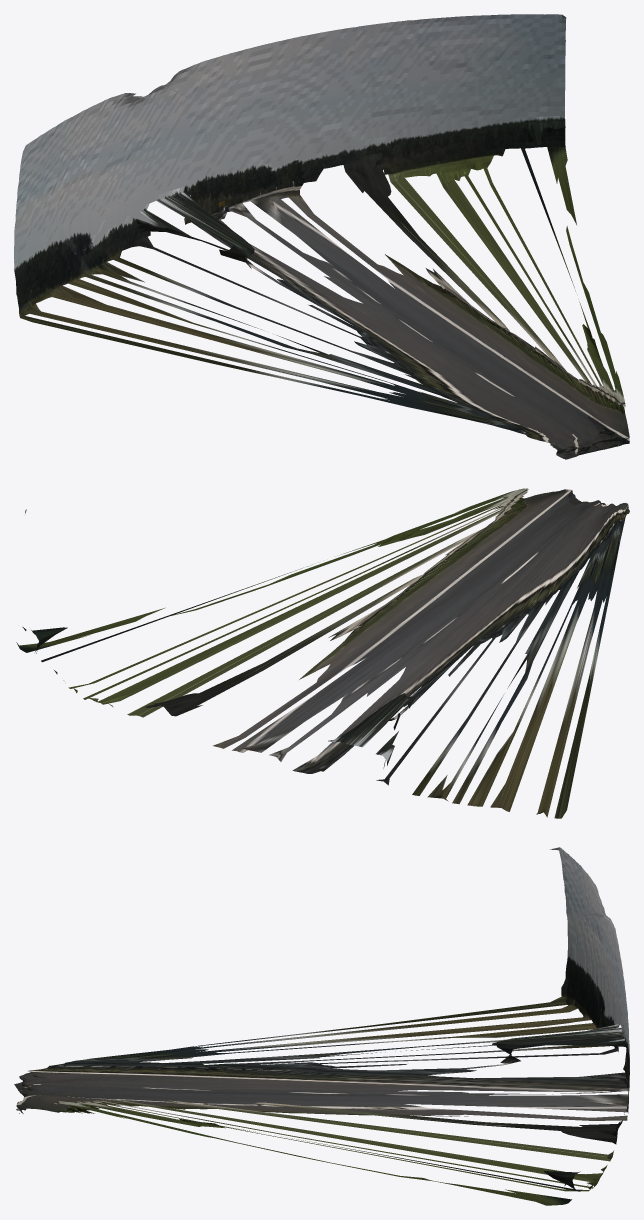
3 renders of one model, top to bottom at view 1: azimuth 30°, elevation 25°; view 2: azimuth 150°, elevation 25°; view 3: azimuth 270°, elevation 25°, orthographic. The views are drawn at different scales.
Visible parts, largest first — view 1: defaultobject; view 2: defaultobject; view 3: defaultobject.
Boxes of the visible parts, x1,y1,x2,y2 form: defaultobject: [14, 14, 629, 459]; defaultobject: [16, 488, 629, 818]; defaultobject: [14, 847, 629, 1205].
Bounding box in the file's own units: 41.14 × 13.25 × 44.47.
1 material, 1 textured.
